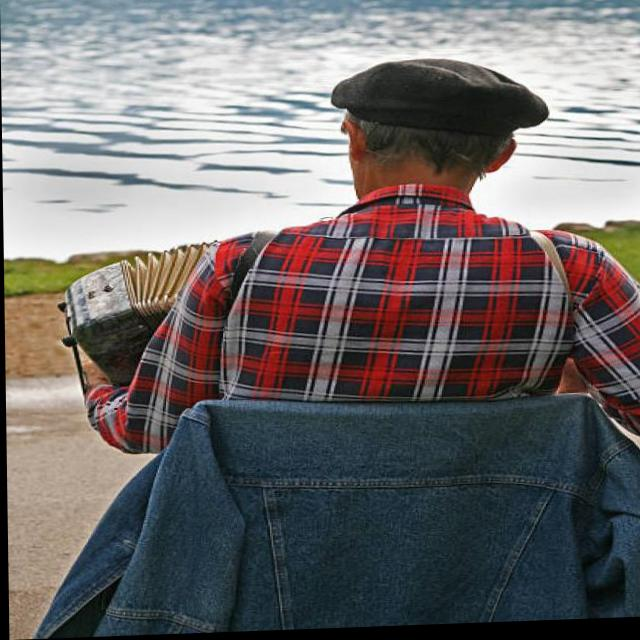no helmet: (311, 41, 575, 205)
